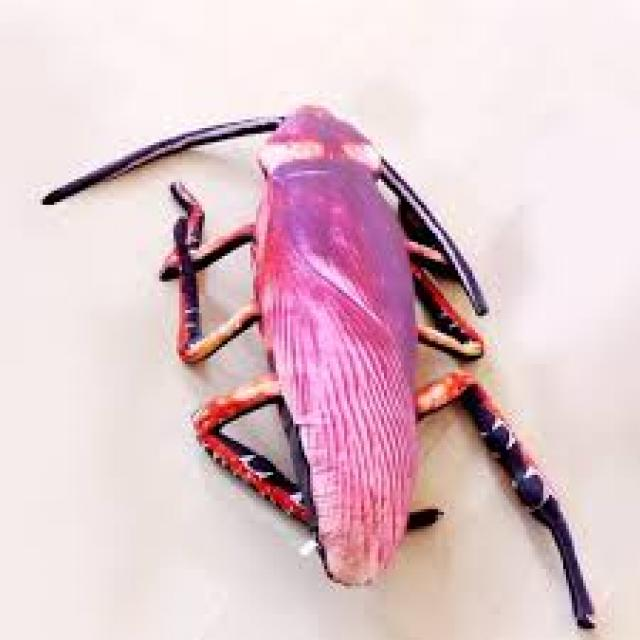Cockroach: (61, 87, 640, 640)
